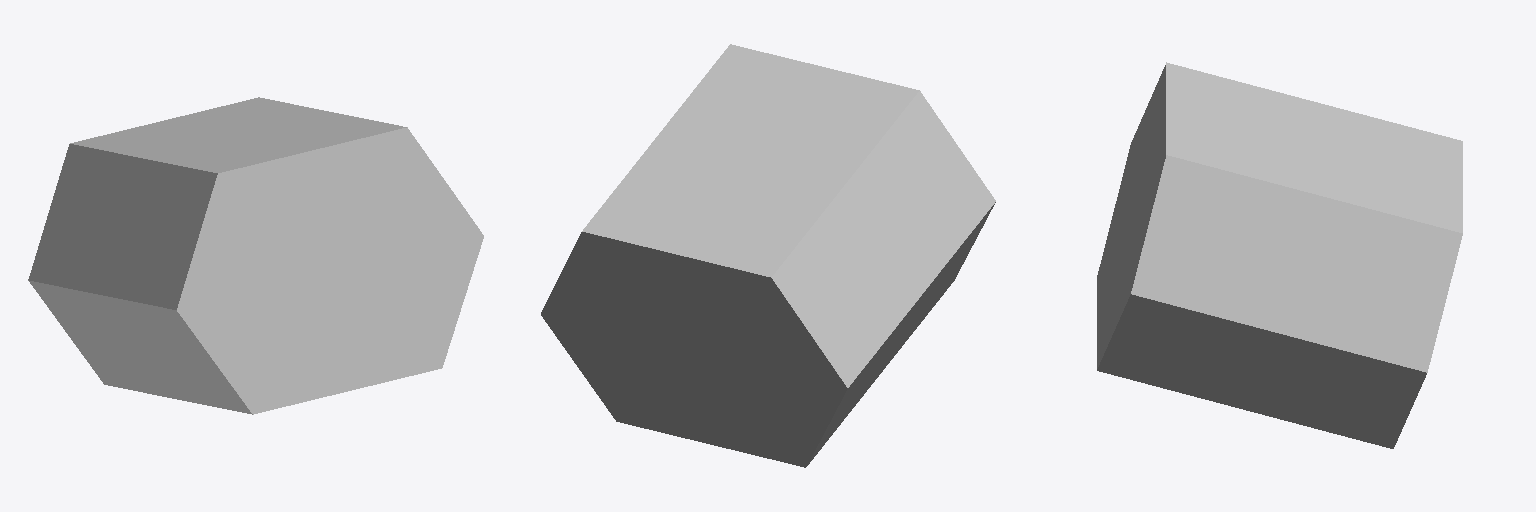
Rendered from original-109.obj.
The picture shows the model from 3 angles: view 1: azimuth 30°, elevation 25°; view 2: azimuth 150°, elevation 25°; view 3: azimuth 270°, elevation 25°; orthographic projection.
Visible parts, largest first — view 1: #ID642; view 2: #ID642; view 3: #ID642.
Boxes of the visible parts, box(x1,y1,x2,y2) form: #ID642: box(28, 97, 483, 414); #ID642: box(541, 44, 995, 467); #ID642: box(1097, 62, 1462, 448).
Size of the model in its own units: 0.0068 by 0.0063 by 0.0071.